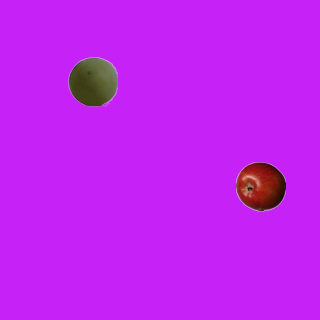Apple Braeburn: (235, 161, 285, 211)
Grape White 4: (67, 56, 117, 106)
